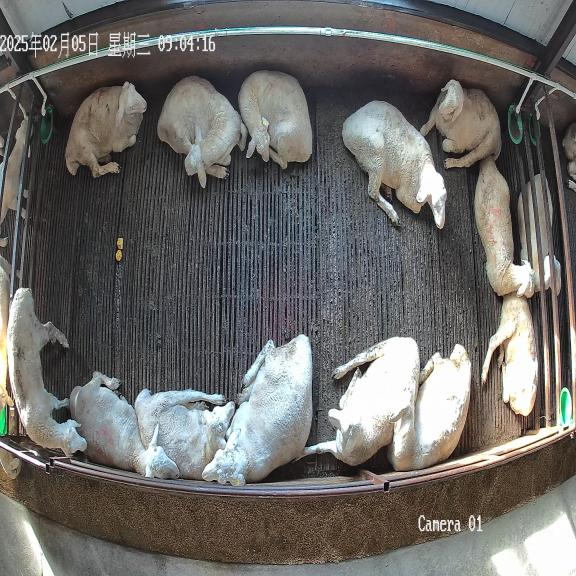lying: (201, 334, 313, 486), (303, 337, 420, 465), (342, 101, 447, 228), (70, 372, 180, 479), (388, 344, 471, 471), (157, 76, 248, 188), (135, 389, 234, 479), (474, 158, 536, 297), (65, 82, 147, 177), (238, 70, 312, 169), (420, 79, 501, 168), (482, 294, 538, 416)
stand: (7, 288, 87, 456)
